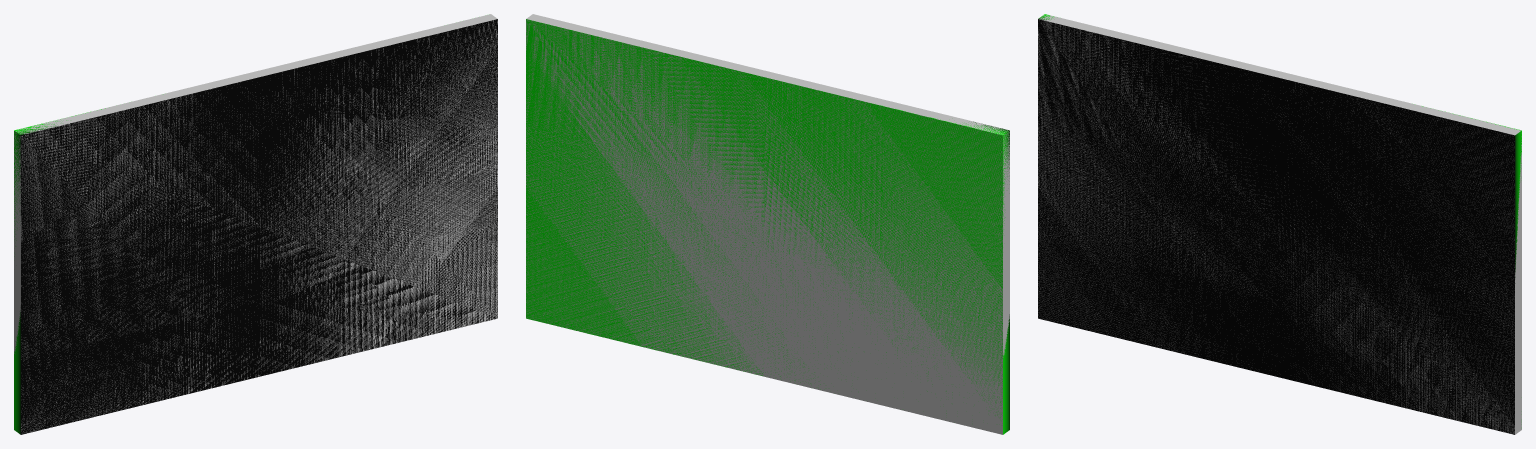
The model's file is SM_His_Sal_Wall_Modular_01.fbx.
The picture shows the model from 3 angles, left to right: view 1: azimuth 30°, elevation 25°; view 2: azimuth 150°, elevation 25°; view 3: azimuth 330°, elevation 25°; orthographic projection.
Parts seen in each view (by area): view 1: SM_His_Sal_Wall_Modular_01, SM_His_Sal_Wall_Modular_01_ConvexHulls; view 2: SM_His_Sal_Wall_Modular_01_ConvexHulls, SM_His_Sal_Wall_Modular_01; view 3: SM_His_Sal_Wall_Modular_01, SM_His_Sal_Wall_Modular_01_ConvexHulls.
Part boxes in pixels (bbox=[...]): SM_His_Sal_Wall_Modular_01: bbox=[14, 19, 497, 434]; SM_His_Sal_Wall_Modular_01_ConvexHulls: bbox=[14, 14, 497, 433]; SM_His_Sal_Wall_Modular_01_ConvexHulls: bbox=[526, 14, 1009, 434]; SM_His_Sal_Wall_Modular_01: bbox=[526, 19, 1009, 434]; SM_His_Sal_Wall_Modular_01: bbox=[1038, 14, 1521, 434]; SM_His_Sal_Wall_Modular_01_ConvexHulls: bbox=[1038, 14, 1521, 434].
Size of the model in its own units: 400 by 10.02 by 240.
